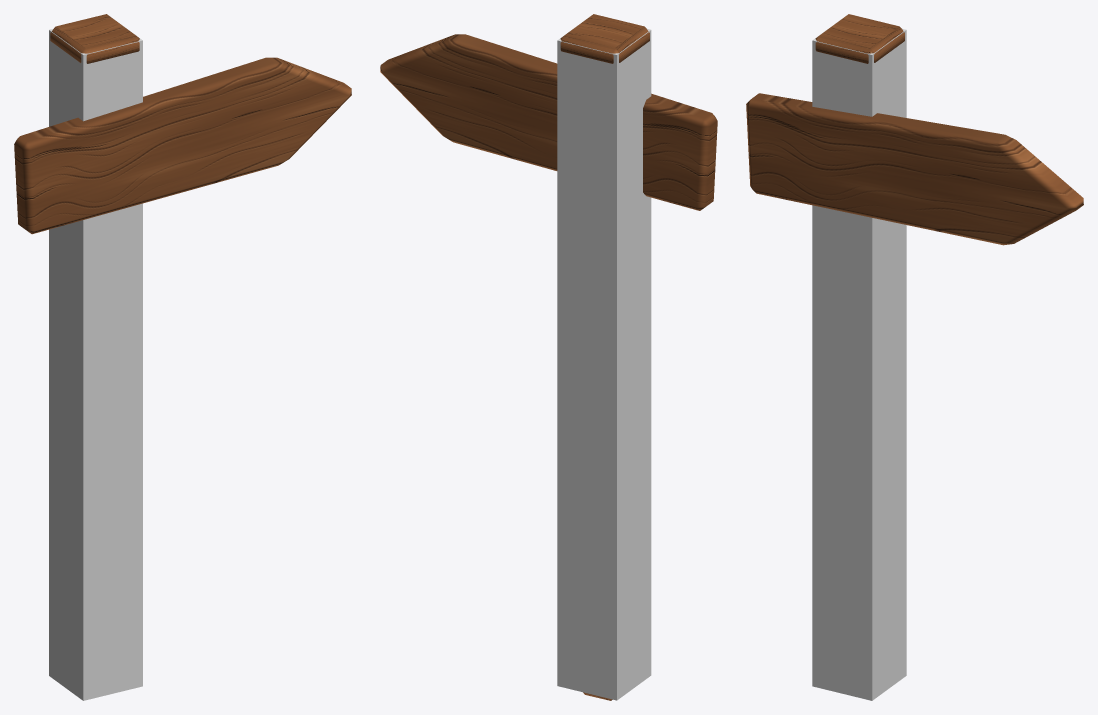
File: SM_Signpost.fbx
3 views of the same model, side by side, from view 1: azimuth 30°, elevation 25°; view 2: azimuth 150°, elevation 25°; view 3: azimuth 330°, elevation 25° (orthographic).
Visible parts, largest first — view 1: Signpost_Col0, Signpost_Body; view 2: Signpost_Col0, Signpost_Body; view 3: Signpost_Col0, Signpost_Body.
Boxes of the visible parts, <box> form: Signpost_Col0: <box>49,17,142,700</box>; Signpost_Body: <box>14,14,351,234</box>; Signpost_Col0: <box>557,18,651,700</box>; Signpost_Body: <box>380,14,717,700</box>; Signpost_Col0: <box>812,18,906,700</box>; Signpost_Body: <box>746,14,1083,245</box>.
Size of the model in its own units: 3.32 by 6.34 by 0.71.
